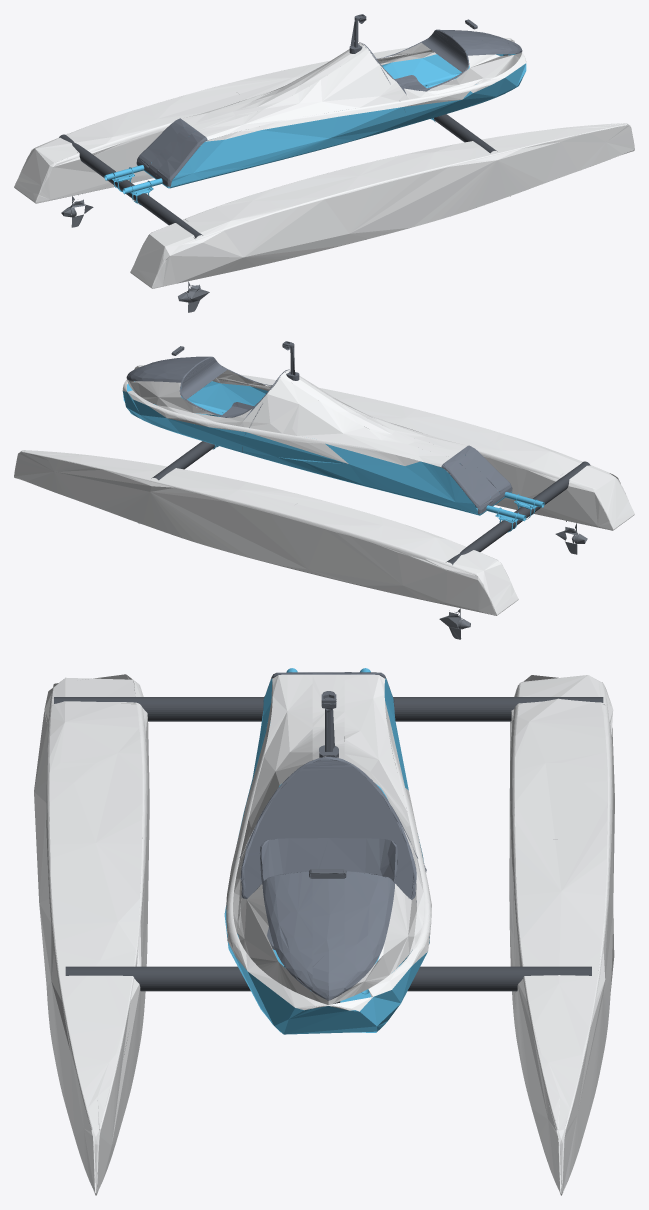
File: karolina.glb
3 renders of one model, top to bottom at view 1: azimuth 30°, elevation 25°; view 2: azimuth 150°, elevation 25°; view 3: azimuth 270°, elevation 25°, orthographic. The views are drawn at different scales.
Parts seen in each view (by area): view 1: hull_starboard, pod_upper, pod_lower, hull_port, canopy, beams, motor_starboard, mast; view 2: hull_port, pod_upper, hull_starboard, pod_lower, canopy, beams, motor_port; view 3: hull_starboard, hull_port, canopy, pod_upper, beams, pod_lower, mast.
Boxes of the visible parts, left/top/right/bottom form: hull_starboard: left=130, top=123, right=634, bottom=288; pod_upper: left=181, top=33, right=526, bottom=141; pod_lower: left=104, top=54, right=526, bottom=205; hull_port: left=14, top=38, right=514, bottom=203; canopy: left=136, top=29, right=522, bottom=186; beams: left=59, top=114, right=497, bottom=238; motor_starboard: left=178, top=281, right=209, bottom=312; mast: left=349, top=14, right=477, bottom=53; hull_port: left=14, top=450, right=518, bottom=615; pod_upper: left=122, top=366, right=467, bottom=471; hull_starboard: left=134, top=365, right=634, bottom=530; pod_lower: left=122, top=381, right=544, bottom=532; canopy: left=126, top=356, right=512, bottom=513; beams: left=151, top=441, right=590, bottom=564; motor_port: left=439, top=608, right=470, bottom=639; hull_starboard: left=34, top=674, right=149, bottom=1195; hull_port: left=509, top=675, right=614, bottom=1195; canopy: left=234, top=672, right=426, bottom=1003; pod_upper: left=226, top=674, right=431, bottom=1011; beams: left=54, top=697, right=603, bottom=991; pod_lower: left=224, top=668, right=429, bottom=1034; mast: left=309, top=691, right=346, bottom=878.
Size of the model in its own units: 4.98 by 1.91 by 2.54.
